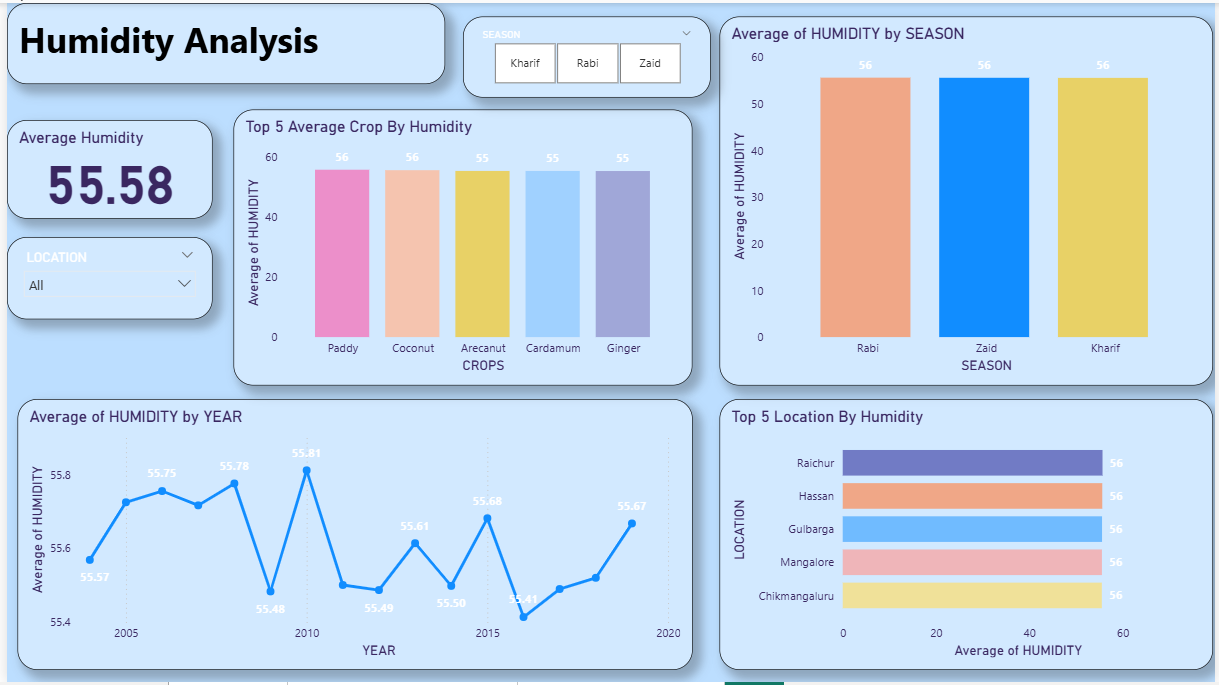

Layout of this report page (visuals, bound fields, positions):
{"tool":"powerbi","page":{"name":"Humidity Analysis","canvas":[1280,720],"ordinal":2},"visuals":[{"type":"lineChart","fields":{"Category":["PBI_DATASET.YEAR"],"Y":["Avg(PBI_DATASET.HUMIDITY)"]},"box":[11.3,419.5,716.2,287.2],"z":0},{"type":"textbox","box":[0,0,464.5,85.9],"z":1000},{"type":"columnChart","fields":{"Category":["PBI_DATASET.SEASON"],"Y":["Avg(PBI_DATASET.HUMIDITY)"]},"box":[755.5,14.3,523.3,391.3],"z":2000},{"type":"barChart","title":"Top 5 Location By Humidity","fields":{"Category":["PBI_DATASET.LOCATION"],"Y":["Avg(PBI_DATASET.HUMIDITY)"]},"box":[755.9,419.5,523.5,287.2],"z":3000},{"type":"columnChart","title":"Top 5 Average Crop By Humidity","fields":{"Category":["PBI_DATASET.CROPS"],"Y":["Avg(PBI_DATASET.HUMIDITY)"]},"box":[240.2,112.9,486.7,292.7],"z":4000},{"type":"slicer","fields":{"Values":["PBI_DATASET.SEASON"]},"box":[483.5,14.3,262.5,85.9],"z":5000},{"type":"slicer","fields":{"Values":["PBI_DATASET.LOCATION"]},"box":[0,248.1,217.9,87.5],"z":6000},{"type":"card","title":"Average Humidity","fields":{"Values":["Avg(PBI_DATASET.HUMIDITY)"]},"box":[0,124.1,217.9,105],"z":7000}]}

Visuals, with their boxes in screenshot pixels (x1, y1, x2, y2), scaled from the page's 1280x720 canvas onto the 1219x685 screenshot:
lineChart - PBI_DATASET.YEAR x Avg(PBI_DATASET.HUMIDITY): (x1=11, y1=399, x2=693, y2=672)
textbox: (x1=0, y1=0, x2=442, y2=82)
columnChart - PBI_DATASET.SEASON x Avg(PBI_DATASET.HUMIDITY): (x1=719, y1=14, x2=1218, y2=386)
"Top 5 Location By Humidity" barChart: (x1=720, y1=399, x2=1218, y2=672)
"Top 5 Average Crop By Humidity" columnChart: (x1=229, y1=107, x2=692, y2=386)
slicer - PBI_DATASET.SEASON: (x1=460, y1=14, x2=710, y2=95)
slicer - PBI_DATASET.LOCATION: (x1=0, y1=236, x2=208, y2=319)
"Average Humidity" card: (x1=0, y1=118, x2=208, y2=218)
